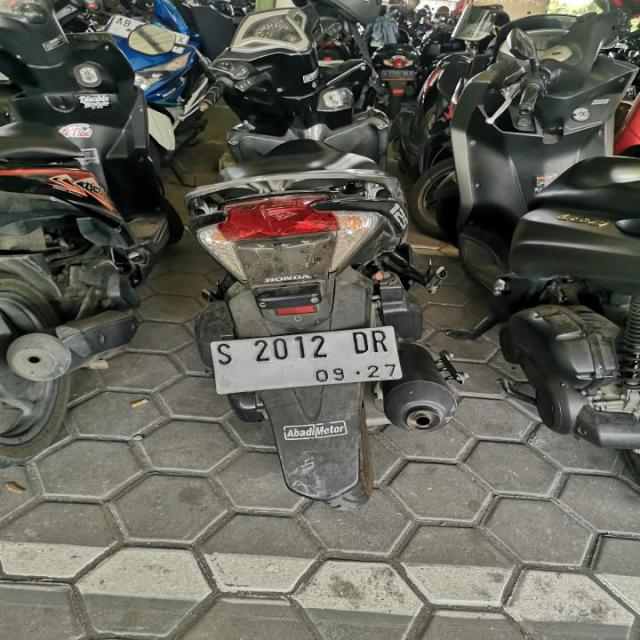License Plate: (208, 324, 406, 398)
